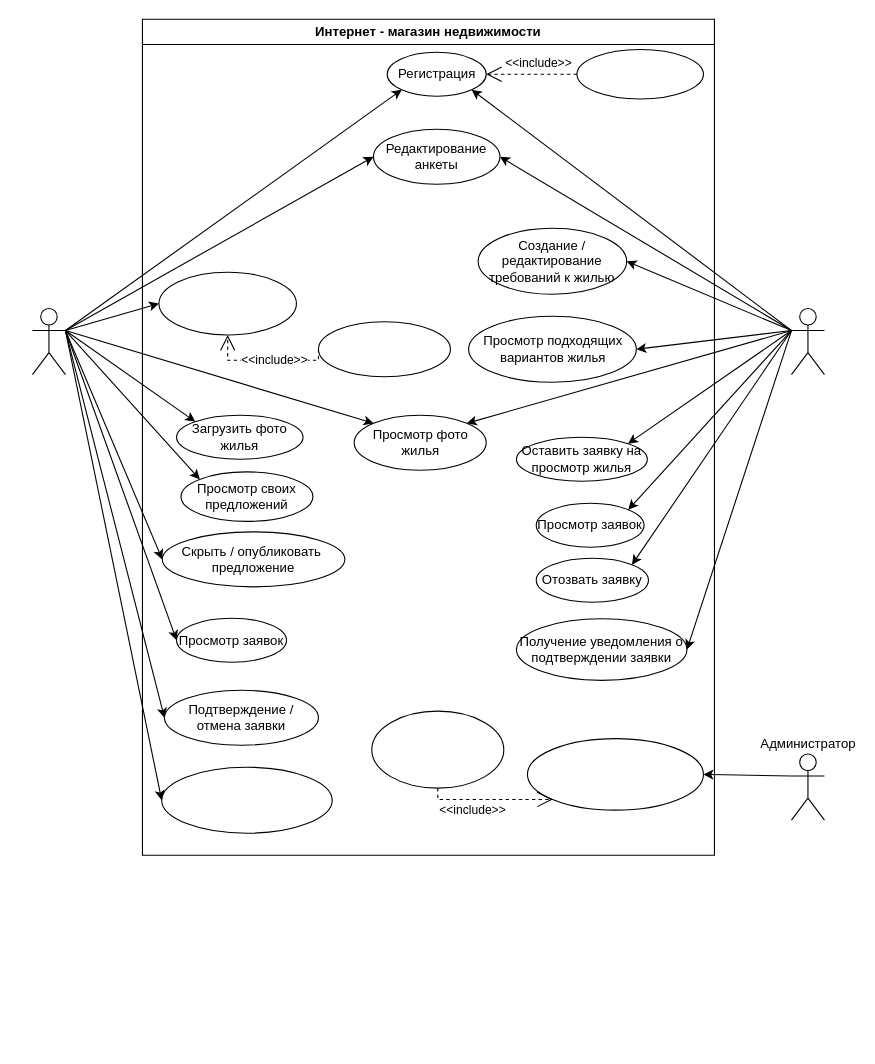
The diagram is 875 pixels wide and 1064 high, and some of its shapes have lost their labels. Each missing label, with the centre of its shape:
Заполнение анкеты: the point at 639,73
Покупатель: the point at 807,341
Получение уведомления о новой заявке на просмотр: the point at 246,799
Продавец: the point at 48,341
Размещение/редактирование предложений: the point at 227,303
Редактирование справочника "Район города": the point at 437,749
Создание / редактирование описания жилья: the point at 383,349
Управление системными настройками: the point at 614,774
